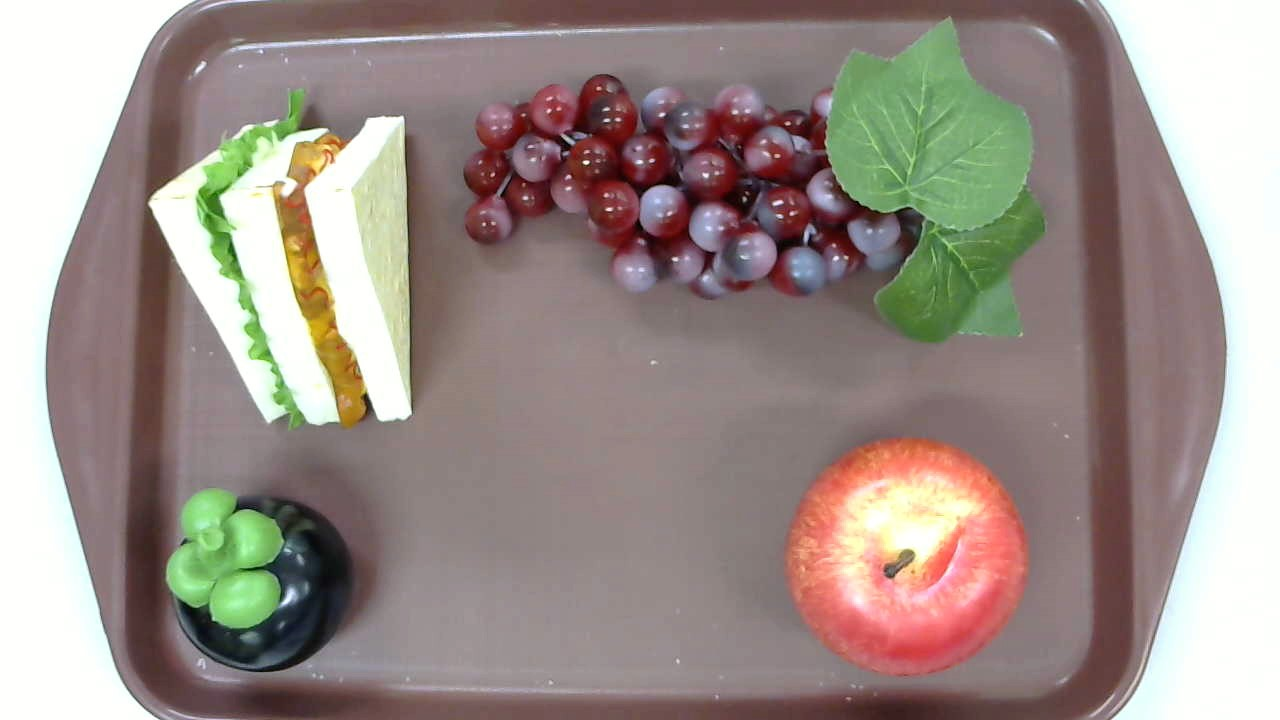grape: (462, 15, 1046, 347)
mangosteen: (163, 487, 356, 673)
red apple: (784, 434, 1029, 676)
sandwich: (144, 88, 413, 433)
